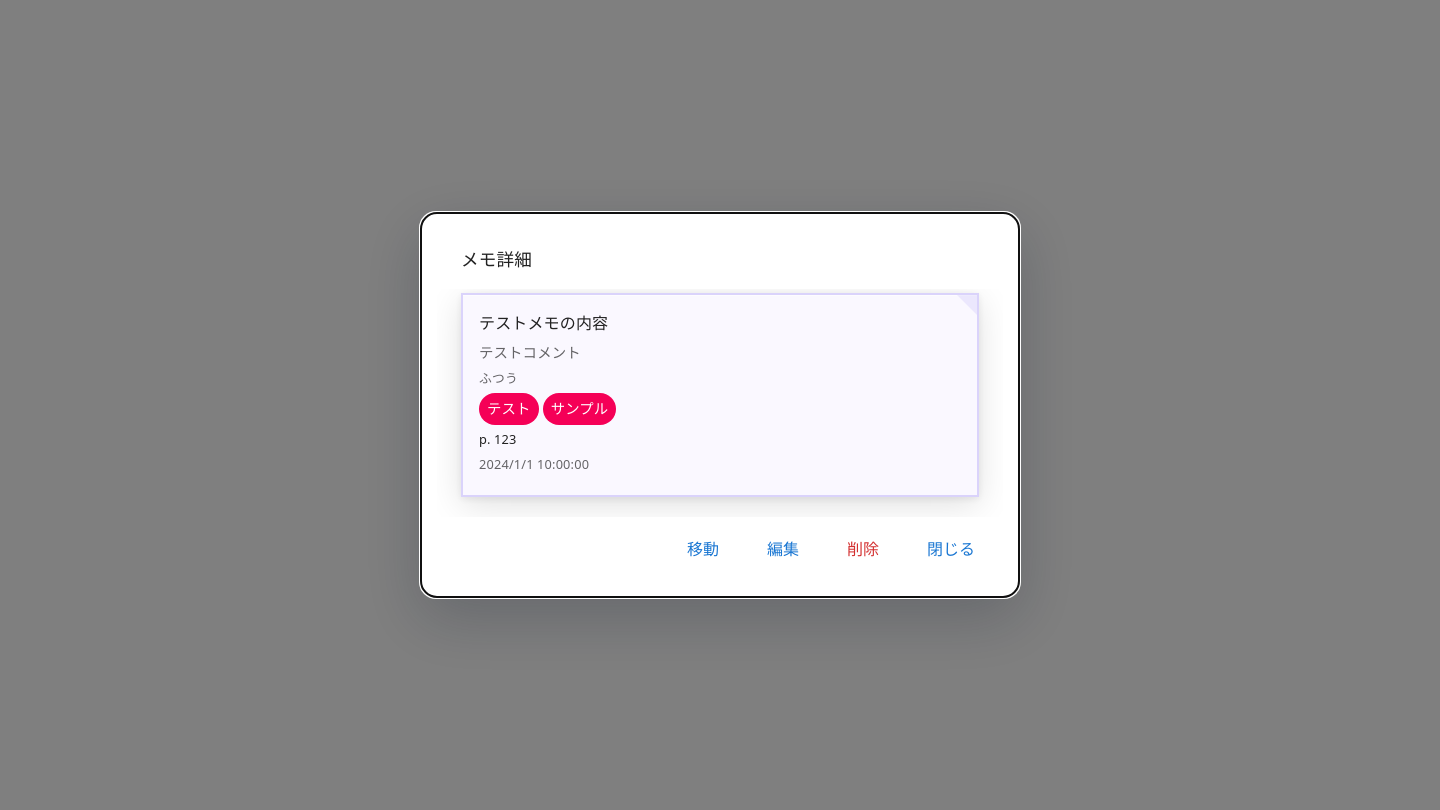
Test: MemoEditor › shows delete confirmation when delete button is clicked
The image size is (1440, 810).
// 削除ボタンをクリック
Click the button with test id "memo-delete-button".
click(863, 549)  # box [827, 525, 899, 573]
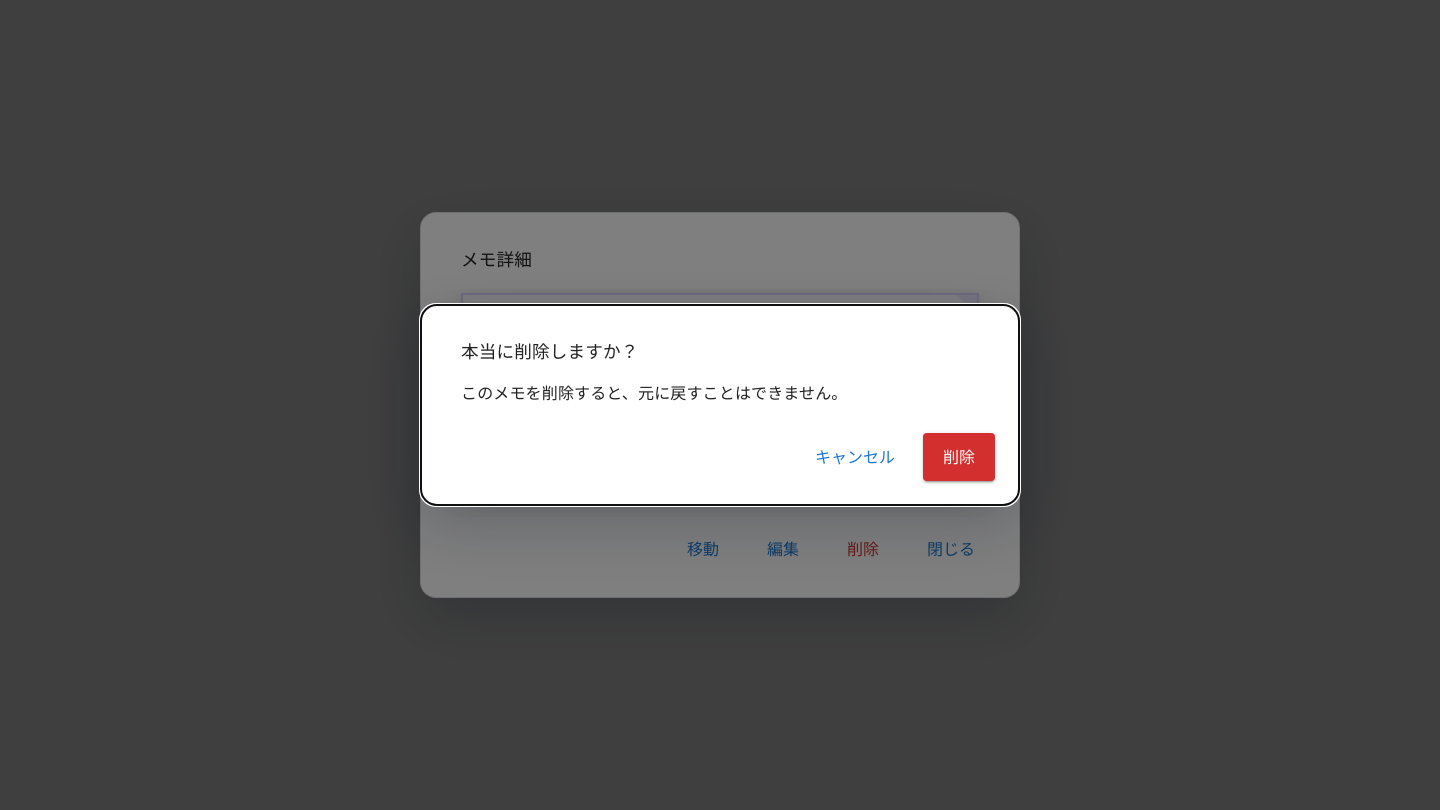
Expected: the heading "本当に削除しますか？" is shown, [461, 339, 638, 363]
